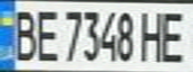3: (78, 7, 103, 62)
4: (100, 7, 121, 62)
7: (57, 6, 84, 63)
8: (115, 7, 139, 62)
B: (6, 5, 39, 62)
E: (157, 7, 193, 63), (30, 4, 60, 63)
H: (136, 7, 169, 63)
